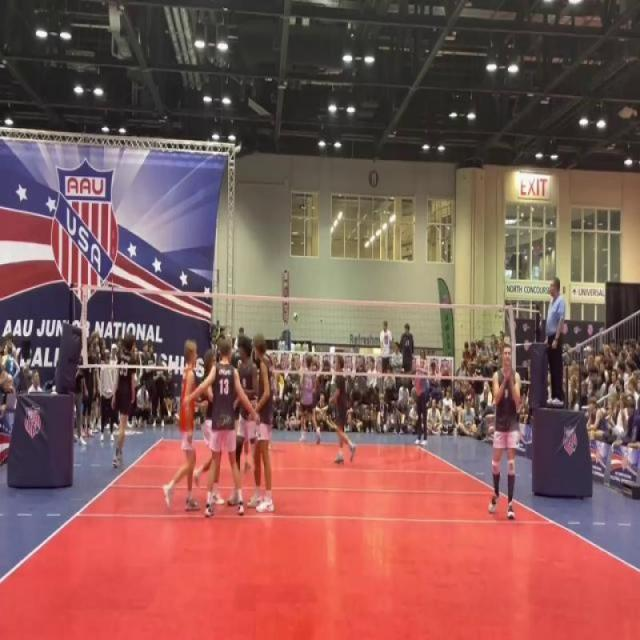volleyball: (292, 311, 300, 324)
